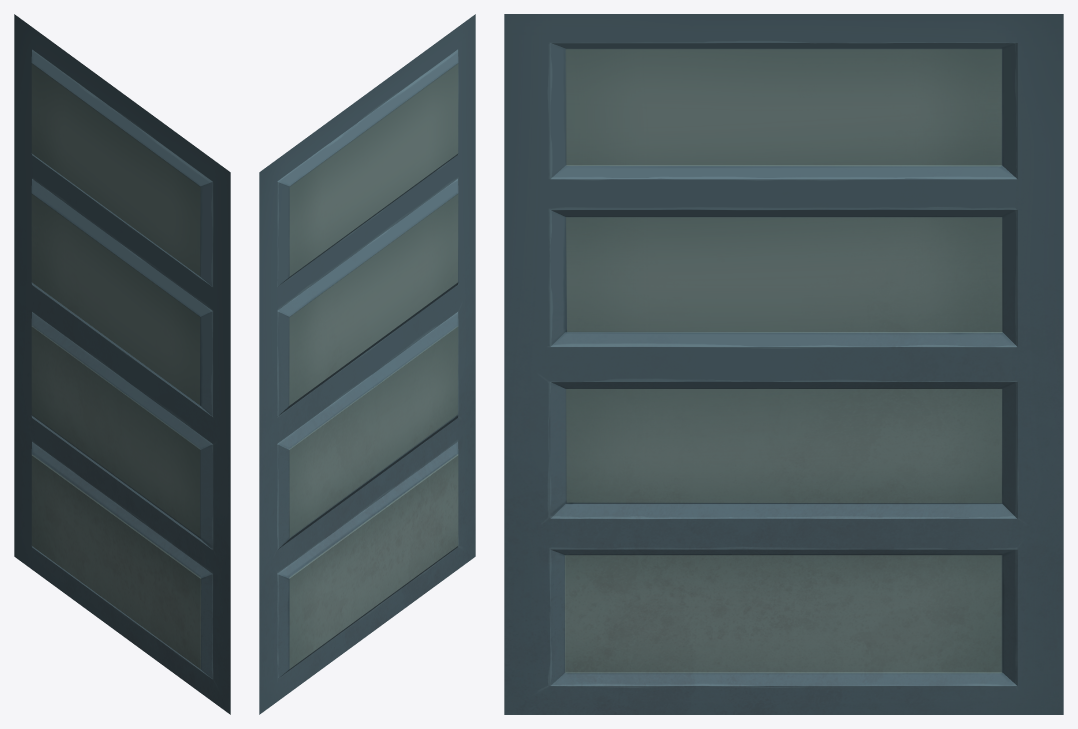
File: deskWall.fbx
3 views of the same model, side by side, from view 1: azimuth 30°, elevation 25°; view 2: azimuth 150°, elevation 25°; view 3: azimuth 270°, elevation 25° (orthographic). The views are drawn at different scales.
Visible parts, largest first — view 1: Wall_DeskArea; view 2: Wall_DeskArea; view 3: Wall_DeskArea.
Boxes of the visible parts, x1,y1,x2,y2 form: Wall_DeskArea: [14, 14, 230, 714]; Wall_DeskArea: [259, 14, 475, 714]; Wall_DeskArea: [504, 14, 1063, 714].
Size of the model in its own units: 1.15 by 92.39 by 66.78.
